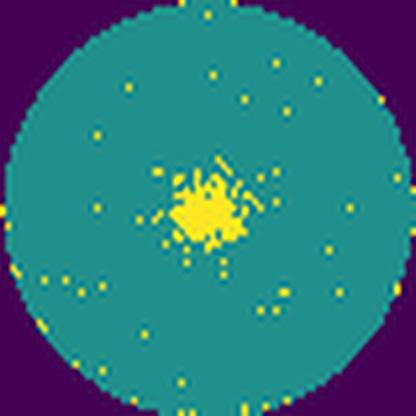Center: (167, 170, 247, 256)
